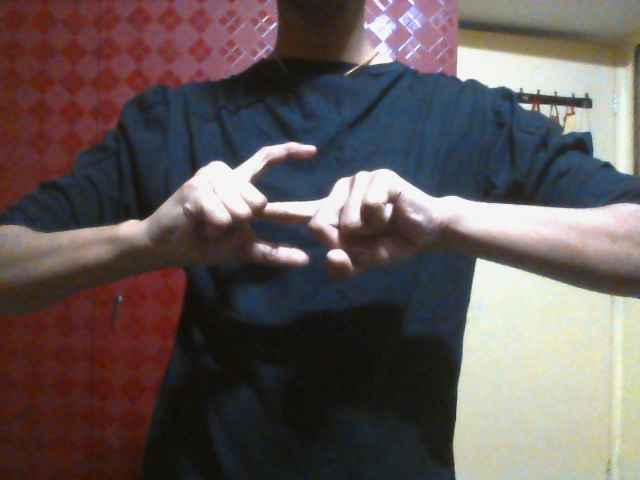E: (173, 140, 442, 291)
